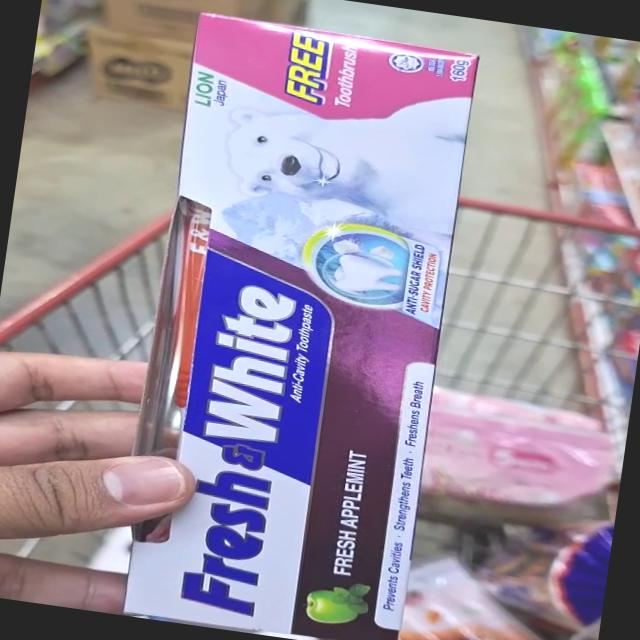Ubat Gigi: (134, 0, 501, 363), (96, 292, 462, 640)
